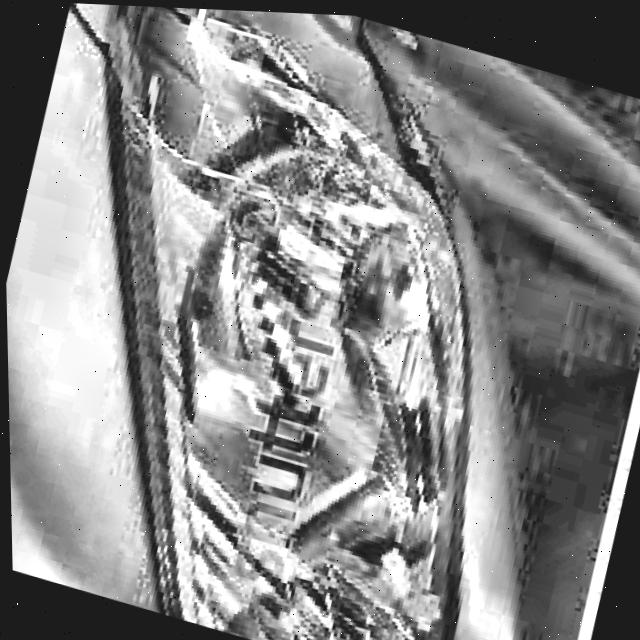head_lamp: (101, 96, 512, 640), (88, 4, 292, 254)
